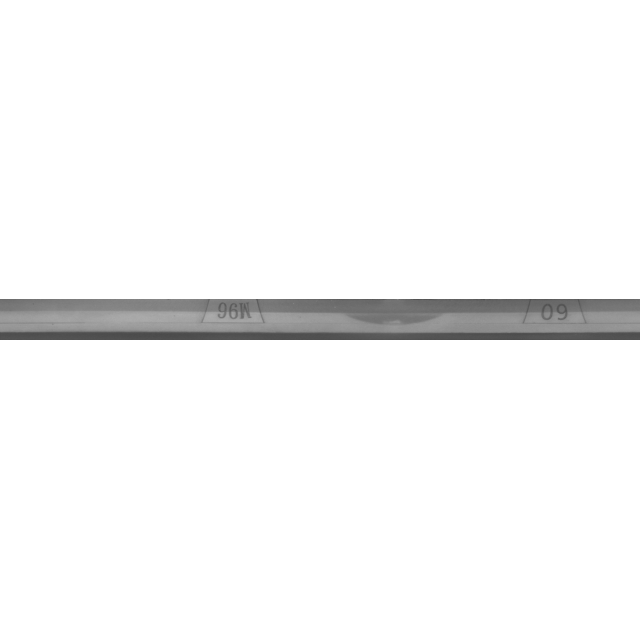mohao: (134, 270, 334, 370)
xuehao: (456, 270, 640, 370)
